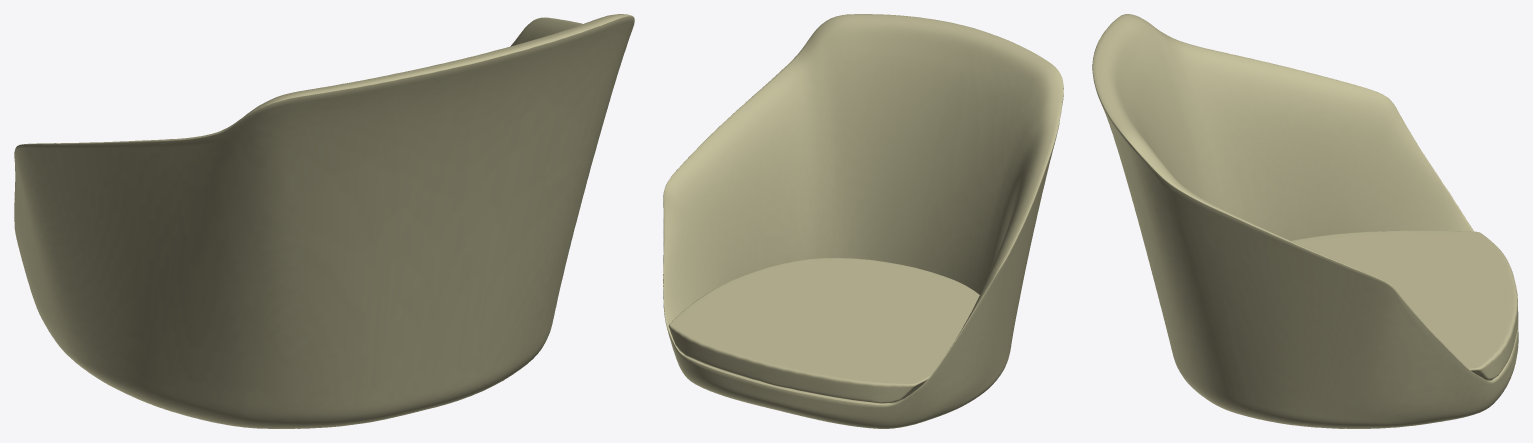
Rendered from annette.gltf.
3 views of the same model, side by side, from view 1: azimuth 30°, elevation 25°; view 2: azimuth 150°, elevation 25°; view 3: azimuth 270°, elevation 25° (orthographic). The views are drawn at different scales.
Visible parts, largest first — view 1: Superficie di Suddivisione; view 2: Superficie di Suddivisione, CUSCINO; view 3: Superficie di Suddivisione, CUSCINO.
Boxes of the visible parts, <box> form: Superficie di Suddivisione: <box>14,14,634,428</box>; Superficie di Suddivisione: <box>663,14,1063,428</box>; CUSCINO: <box>668,258,979,403</box>; Superficie di Suddivisione: <box>1092,14,1518,428</box>; CUSCINO: <box>1291,230,1518,380</box>.
Bounding box in the file's own units: 0.6176 × 0.4544 × 0.5971.
